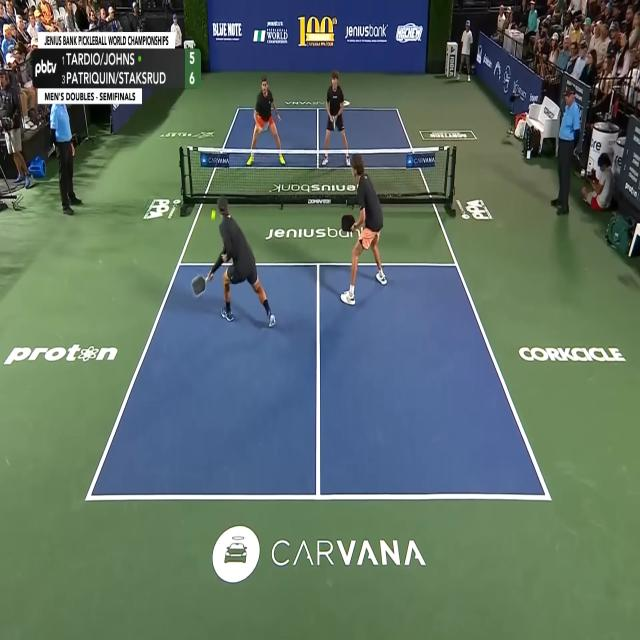ball: (210, 208, 216, 222)
